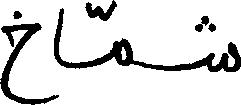X: (0, 6, 37, 104), (208, 13, 240, 76), (54, 4, 61, 103), (117, 33, 130, 70)
